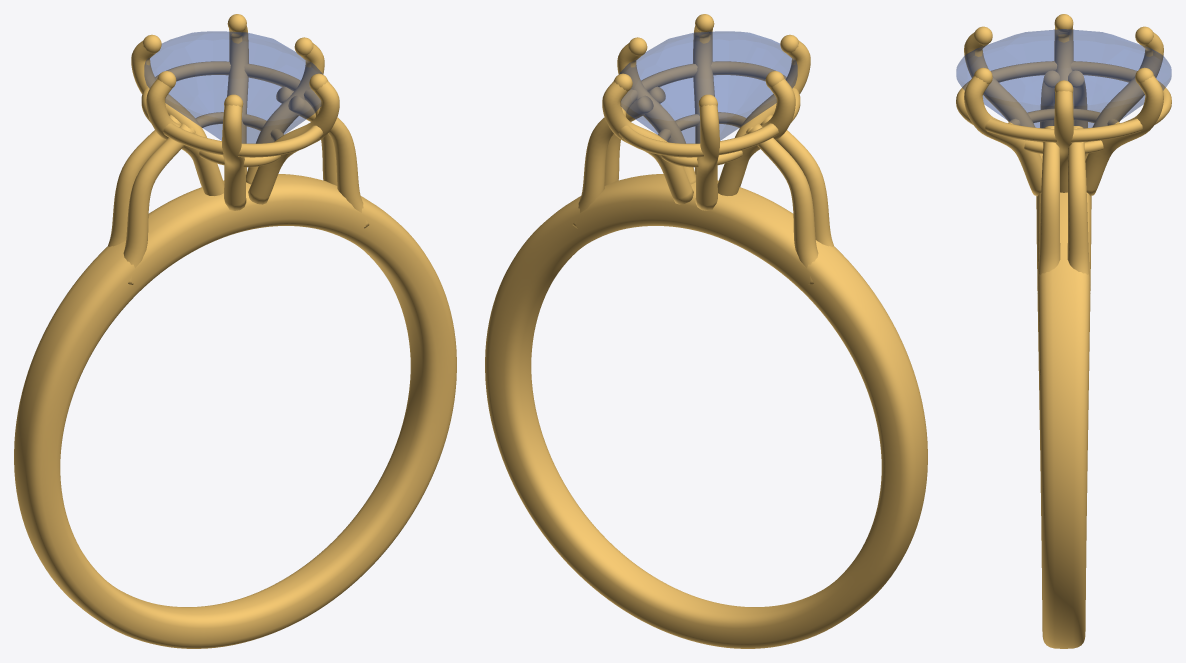
File: Ring_Custom_SixProngOvalSolitaire_Preview.glb
The picture shows the model from 3 angles, left to right: view 1: azimuth 30°, elevation 25°; view 2: azimuth 150°, elevation 25°; view 3: azimuth 270°, elevation 25°; orthographic projection.
Parts seen in each view (by area): view 1: Band, Head_Center, PreviewGem_Center, Cathedral; view 2: Band, Head_Center, PreviewGem_Center, Cathedral; view 3: Band, Head_Center, PreviewGem_Center, Cathedral.
Boxes of the visible parts, bbox=[...] form: Band: bbox=[14, 174, 456, 648]; Head_Center: bbox=[131, 14, 339, 210]; PreviewGem_Center: bbox=[144, 31, 322, 143]; Cathedral: bbox=[107, 86, 369, 284]; Band: bbox=[485, 174, 927, 648]; Head_Center: bbox=[602, 14, 810, 210]; PreviewGem_Center: bbox=[619, 31, 797, 143]; Cathedral: bbox=[572, 86, 834, 284]; Band: bbox=[1036, 192, 1091, 648]; Head_Center: bbox=[956, 14, 1171, 196]; PreviewGem_Center: bbox=[956, 29, 1171, 127]; Cathedral: bbox=[1037, 70, 1090, 288].
Size of the model in its own units: 0.0205 by 0.0266 by 0.00901.
